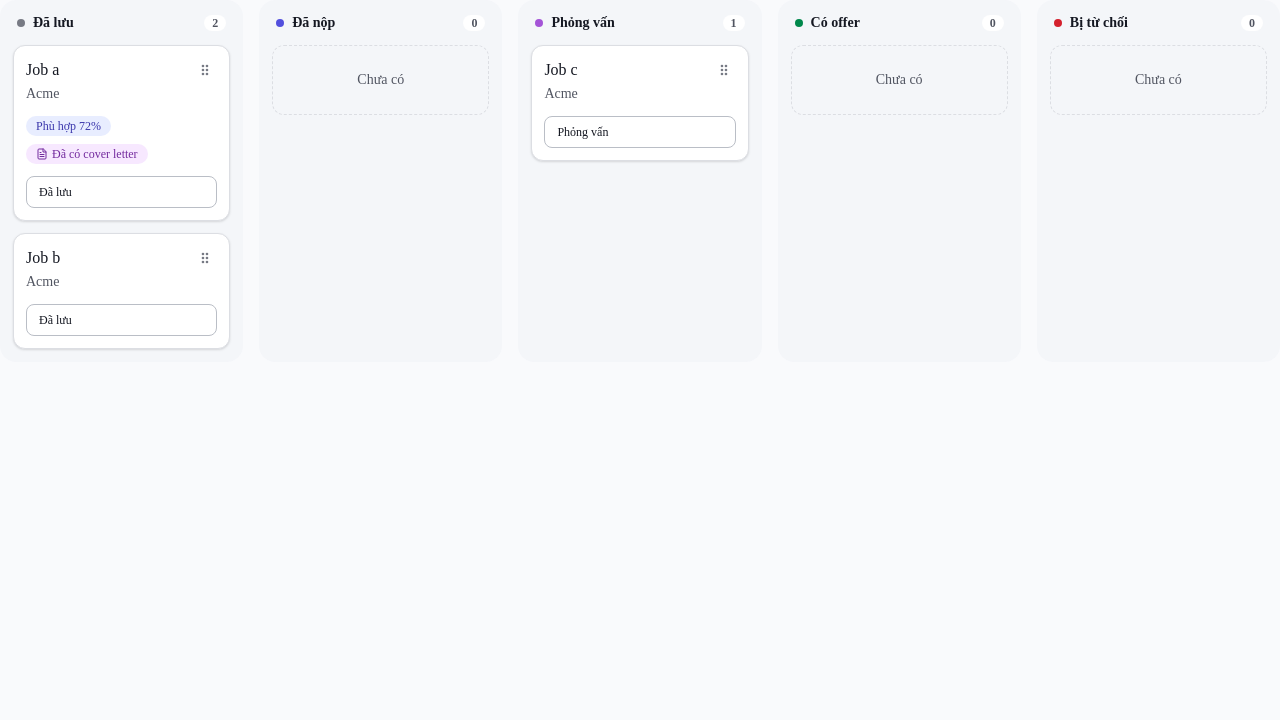
Test case: ApplicationBoard › rolls back when the API refuses the move
Select "Có offer" in the dropdown named "Chuyển Job a tại Acme sang cột". click: point(122, 192)
box: [26,176,217,208]
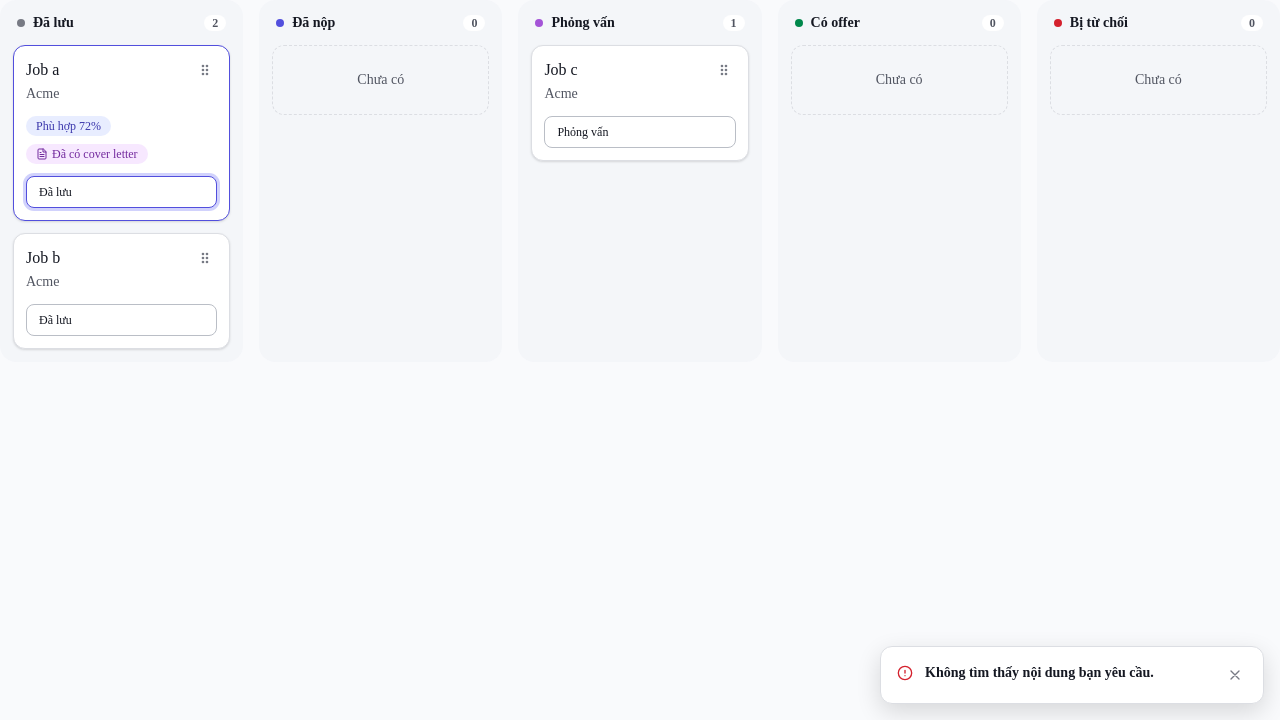
Check: the link "Job a" is shown, box [26,61,59,78]
Check: the message shows "Không tìm thấy", box [925,665,1154,680]
